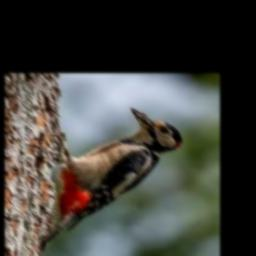Woodpecker: (39, 108, 182, 253)
